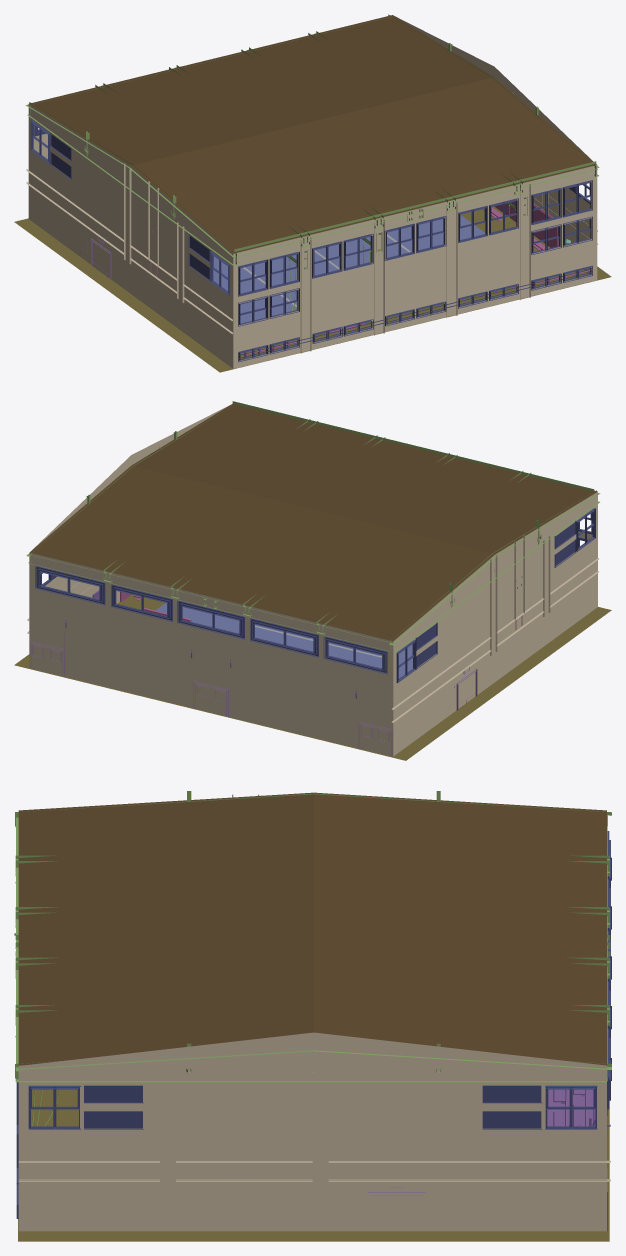
File: Gymnasium.fbx
3 renders of one model, top to bottom at view 1: azimuth 30°, elevation 25°; view 2: azimuth 150°, elevation 25°; view 3: azimuth 270°, elevation 25°, orthographic. The views are drawn at different scales.
Visible parts, largest first — view 1: roof, Walls1, windows, Floor, beams, GymProps; view 2: roof, Walls1, windows, Floor, beams, stemps; view 3: roof, Walls1, Floor, windows, beams, stemps.
Boxes of the visible parts, <box> form: roof: <box>29,15,596,253</box>; Walls1: <box>26,16,598,368</box>; windows: <box>30,120,592,361</box>; Floor: <box>14,206,611,372</box>; beams: <box>25,14,599,310</box>; GymProps: <box>150,201,590,358</box>; roof: <box>30,403,597,641</box>; Walls1: <box>27,406,598,756</box>; windows: <box>35,508,595,683</box>; Floor: <box>14,594,611,760</box>; beams: <box>26,401,600,652</box>; stemps: <box>29,590,477,756</box>; roof: <box>18,792,606,1065</box>; Walls1: <box>16,794,610,1231</box>; Floor: <box>18,1089,609,1241</box>; windows: <box>16,831,611,1218</box>; beams: <box>14,791,611,1126</box>; stemps: <box>368,1089,610,1231</box>.
Bounding box in the file's own units: 347 × 118 × 319.
